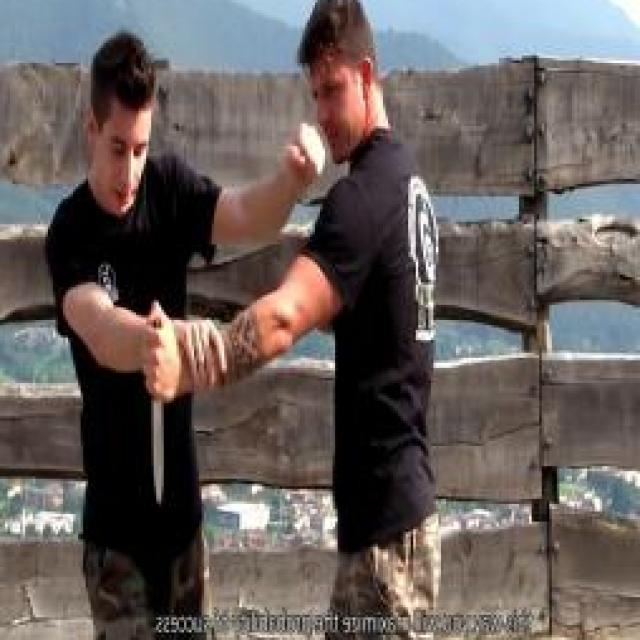knife: (141, 298, 171, 506)
